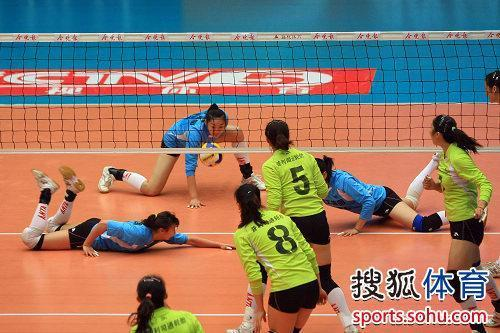Fall-Detected: (299, 151, 449, 238)
